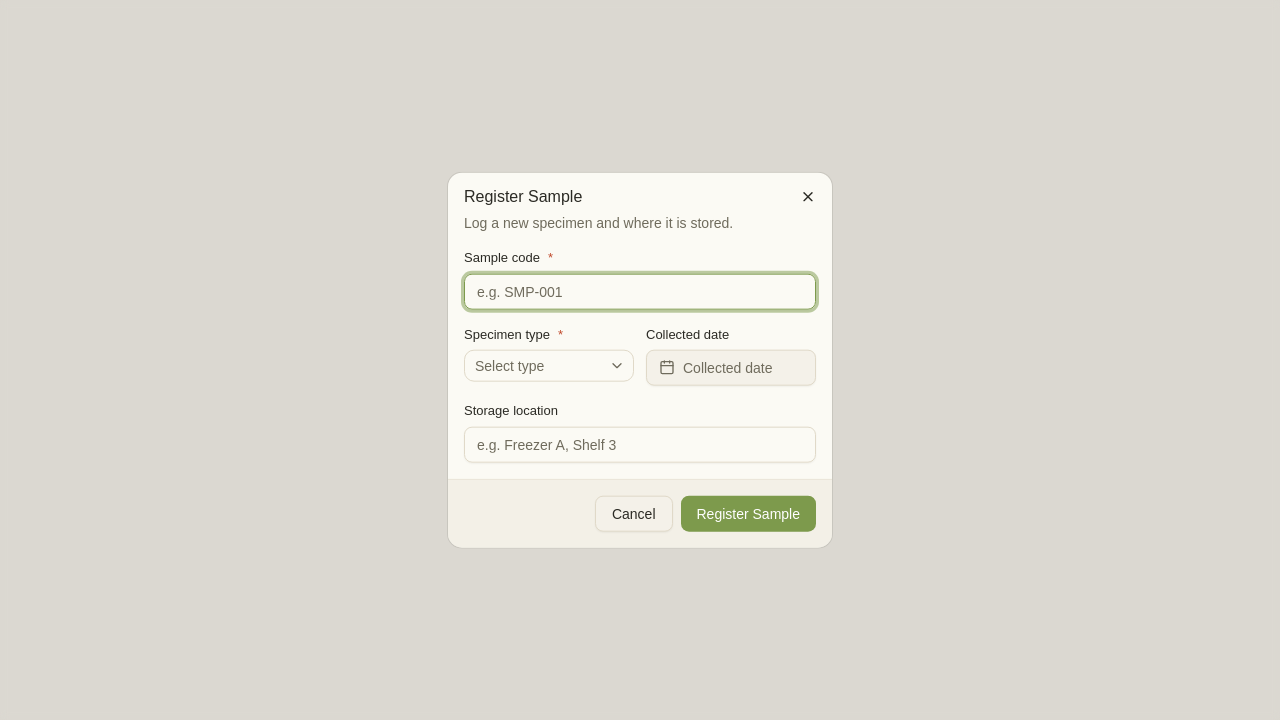
Test: SampleFormDialog › should show a required error and not submit when code is empty
The image size is (1280, 720).
Step 1. Click the button "Register Sample" → (748, 513), box [680,495,816,531]
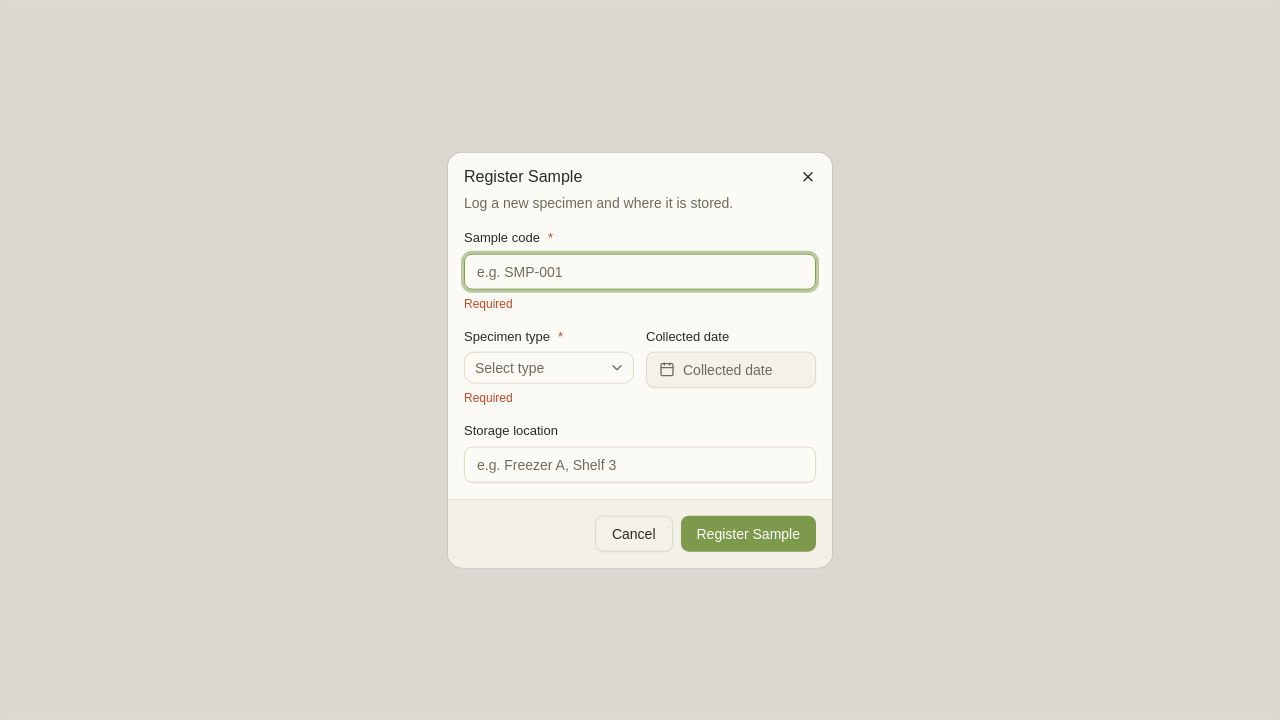
Expected: the text "Required" below "Sample code" is shown, [464,296,513,310]
